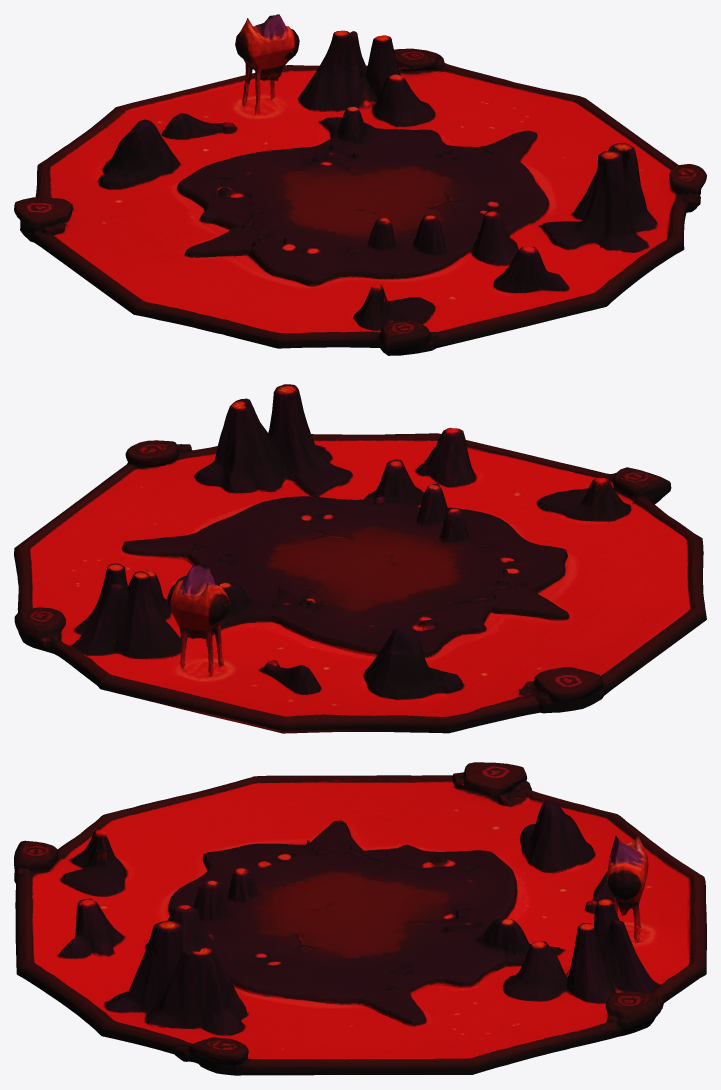
File: volcano.glb
The picture shows the model from 3 angles, top to bottom: view 1: azimuth 30°, elevation 25°; view 2: azimuth 150°, elevation 25°; view 3: azimuth 270°, elevation 25°; orthographic projection. The views are drawn at different scales.
Parts seen in each view (by area): view 1: world; view 2: world; view 3: world.
Boxes of the visible parts, x1=… form: world: x1=14, y1=14, x2=706, y2=355; world: x1=14, y1=384, x2=706, y2=733; world: x1=14, y1=762, x2=706, y2=1075.
Size of the model in its own units: 1 by 0.1757 by 0.9957.
Materials: 1 (1 with a texture image).
